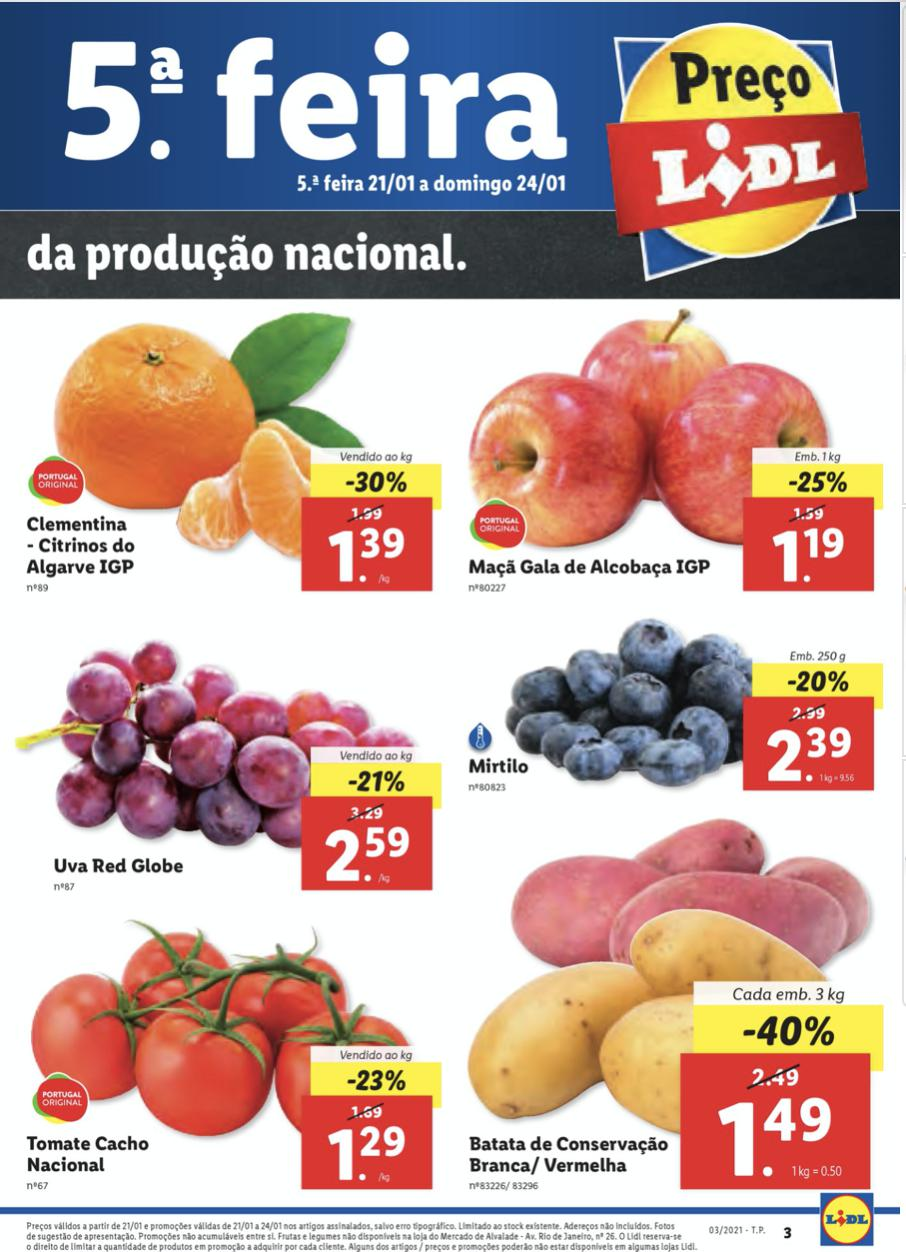name: (467, 1133, 673, 1178), (17, 512, 137, 583), (467, 553, 713, 586), (45, 853, 190, 889), (26, 1134, 157, 1172), (465, 755, 538, 784)
price: (715, 1094, 834, 1178), (321, 820, 410, 887), (323, 1122, 412, 1186), (767, 725, 857, 786), (328, 523, 410, 589), (765, 527, 851, 584)
product: (446, 828, 888, 1203), (454, 298, 890, 622), (4, 303, 445, 608), (20, 622, 454, 903), (21, 917, 446, 1203), (454, 622, 888, 828)
promotion: (734, 1012, 842, 1048), (340, 469, 412, 500), (778, 667, 853, 695), (343, 1064, 410, 1095), (784, 469, 854, 498), (342, 769, 410, 797)
